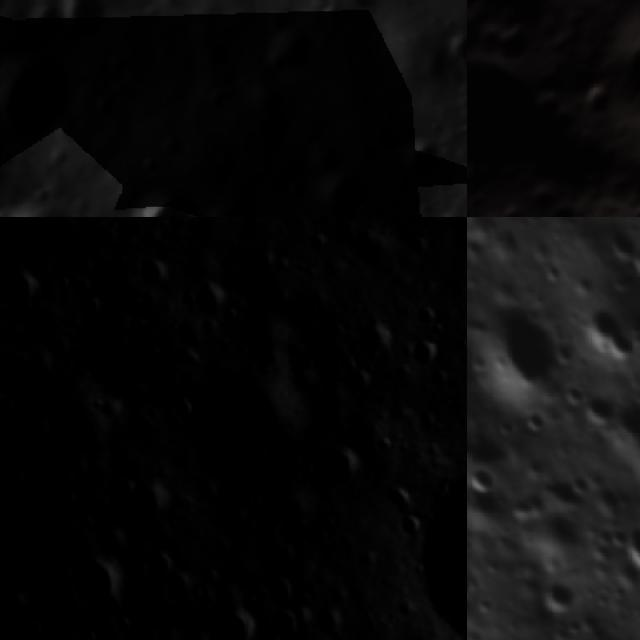crater: (467, 279, 592, 426), (402, 464, 467, 640), (575, 0, 640, 133), (32, 368, 128, 457), (208, 370, 308, 454), (0, 52, 72, 128), (563, 375, 630, 442), (63, 549, 131, 615), (527, 566, 593, 632), (607, 498, 640, 603), (477, 16, 533, 71), (467, 454, 510, 513), (265, 484, 312, 535), (240, 320, 292, 366), (323, 171, 370, 217), (0, 262, 42, 308), (188, 275, 235, 315), (136, 185, 193, 217), (354, 313, 395, 357), (132, 478, 172, 523), (402, 137, 445, 178), (531, 190, 592, 217), (63, 0, 112, 32), (322, 441, 364, 478), (158, 564, 195, 606), (132, 253, 172, 291), (96, 311, 136, 348), (467, 546, 488, 615), (266, 601, 305, 638), (407, 333, 447, 368), (15, 519, 51, 556), (392, 505, 425, 542), (139, 543, 172, 579), (408, 300, 444, 330), (279, 172, 308, 206), (168, 389, 194, 426), (266, 572, 300, 600), (46, 326, 76, 356), (493, 196, 533, 217), (201, 83, 233, 107), (442, 217, 467, 244), (185, 217, 231, 231), (326, 0, 386, 10), (93, 94, 120, 116), (451, 33, 467, 70), (621, 195, 640, 217)
